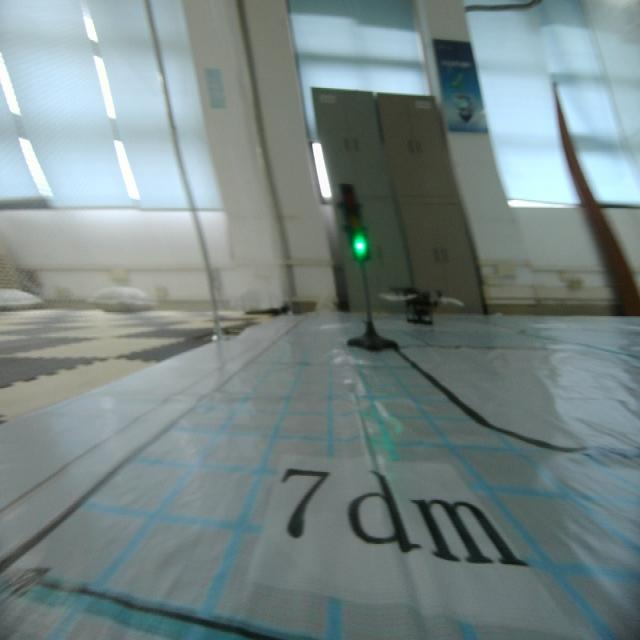green: (332, 178, 374, 264)
